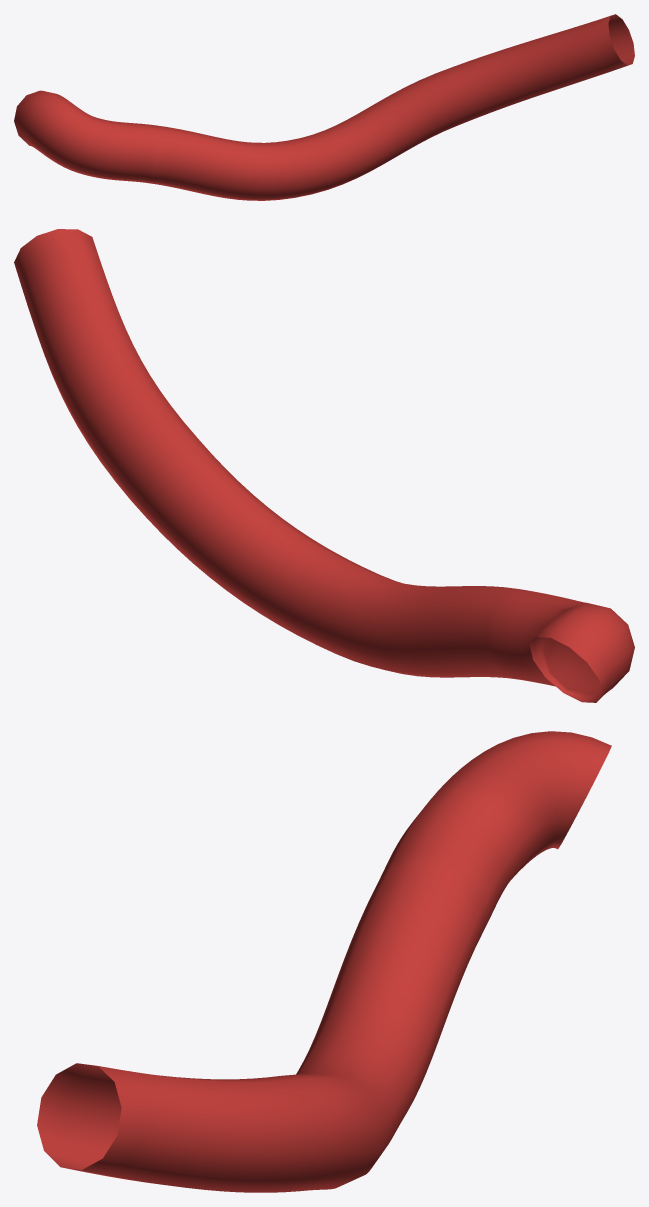
3 views of the same model, one above another, from view 1: azimuth 30°, elevation 25°; view 2: azimuth 150°, elevation 25°; view 3: azimuth 270°, elevation 25° (orthographic). The views are drawn at different scales.
Visible parts, largest first — view 1: 左侧大脑中动脉M1段; view 2: 左侧大脑中动脉M1段; view 3: 左侧大脑中动脉M1段.
Boxes of the visible parts, x1,y1,x2,y2 form: 左侧大脑中动脉M1段: [14, 14, 634, 200]; 左侧大脑中动脉M1段: [14, 229, 634, 702]; 左侧大脑中动脉M1段: [37, 731, 611, 1192].
Size of the model in its own units: 0.0434 by 0.0136 by 0.0217.
